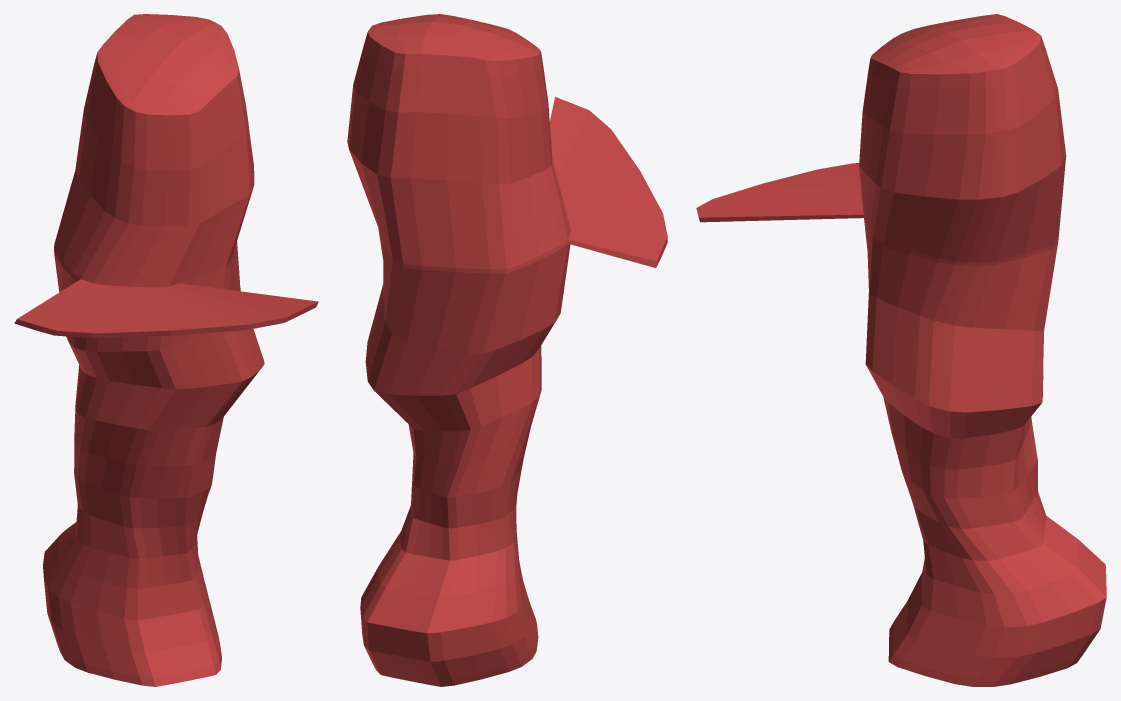
The model's file is SceneRockMID.FBX.
3 renders of one model, left to right at view 1: azimuth 30°, elevation 25°; view 2: azimuth 150°, elevation 25°; view 3: azimuth 270°, elevation 25°, orthographic. The views are drawn at different scales.
Parts seen in each view (by area): view 1: SceneRockMID_LP; view 2: SceneRockMID_LP; view 3: SceneRockMID_LP.
Boxes of the visible parts, <box> form: SceneRockMID_LP: <box>14,14,318,686</box>; SceneRockMID_LP: <box>347,14,667,686</box>; SceneRockMID_LP: <box>696,14,1106,686</box>.
Bounding box in the file's own units: 9.13 × 20.2 × 11.92.
